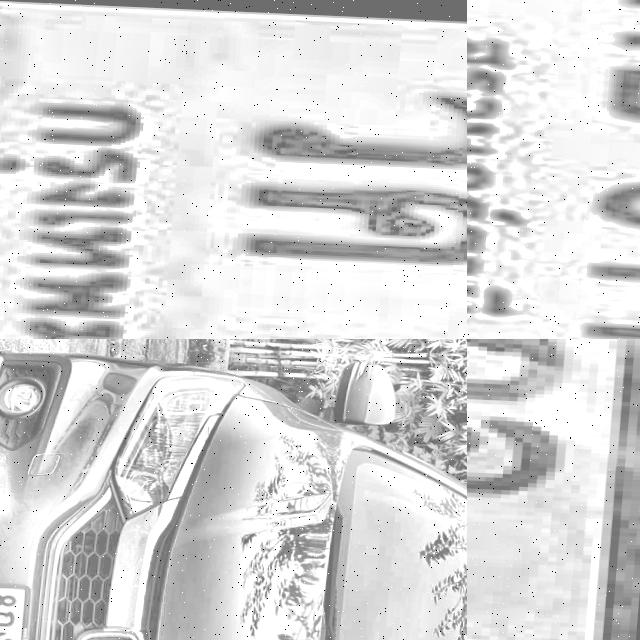license-plate: (0, 0, 467, 339), (467, 0, 640, 339), (467, 339, 640, 640)
